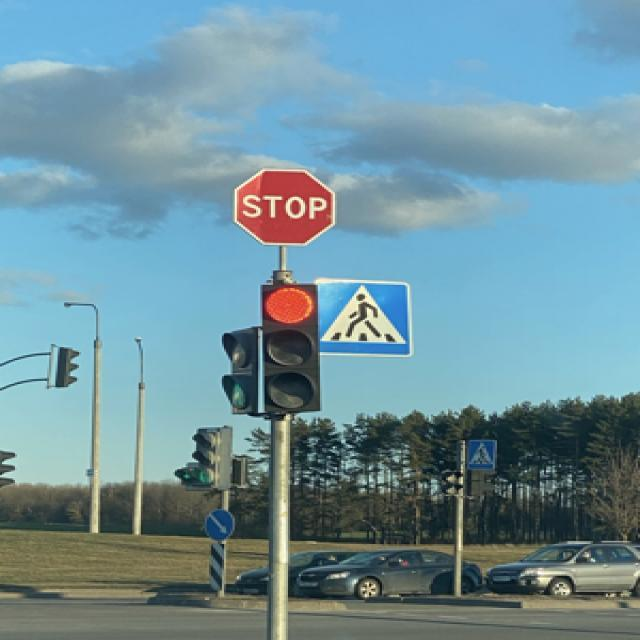crosswalk_sign: (313, 276, 415, 358)
stop: (231, 167, 339, 248)
